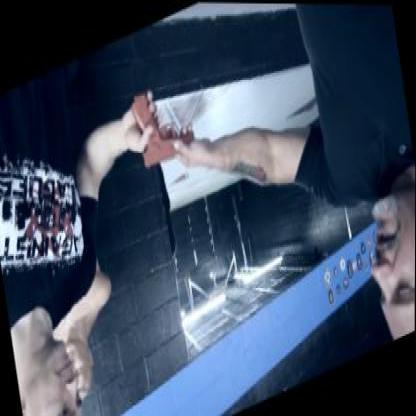pistol: (129, 71, 196, 174)
